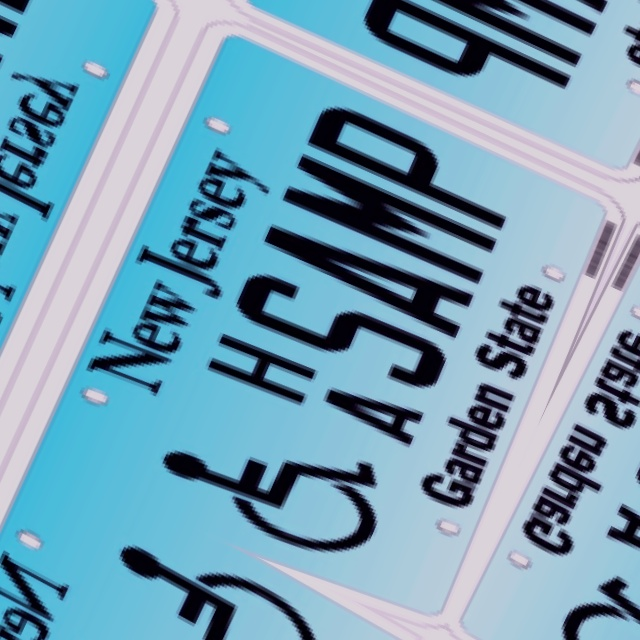ISA: (141, 381, 405, 590), (81, 511, 346, 640), (534, 560, 640, 640)
